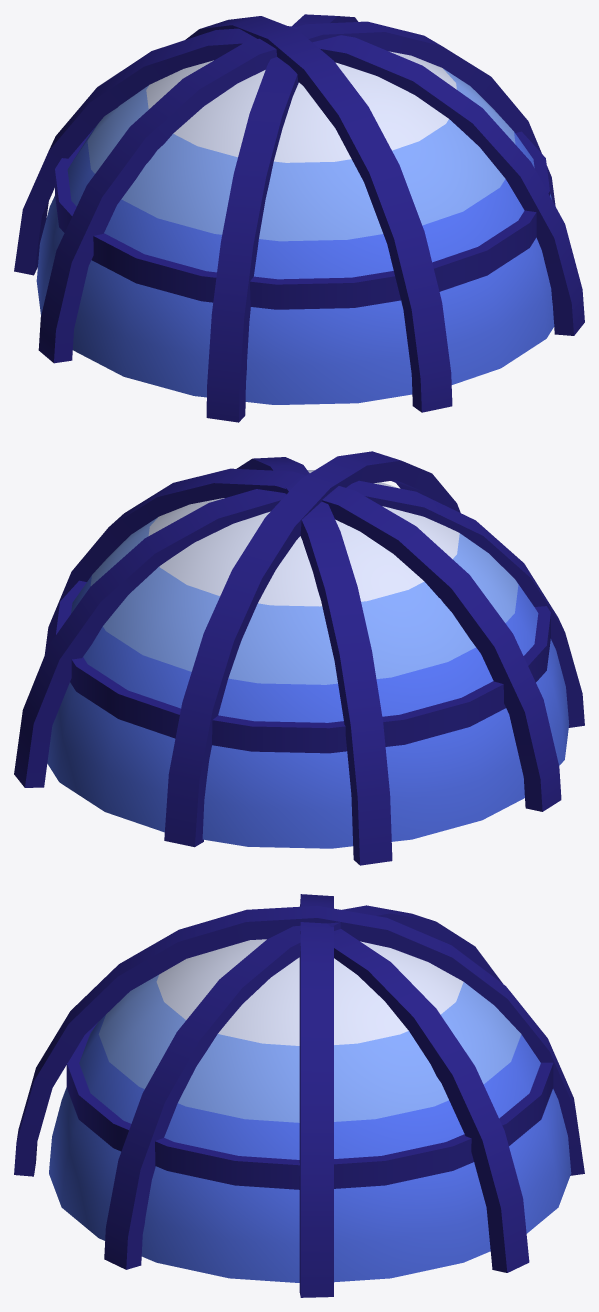
Rendered from Building_049_c.fbx.
3 views of the same model, one above another, from view 1: azimuth 30°, elevation 25°; view 2: azimuth 150°, elevation 25°; view 3: azimuth 270°, elevation 25° (orthographic). The views are drawn at different scales.
Parts seen in each view (by area): view 1: Building_049_c; view 2: Building_049_c; view 3: Building_049_c.
Boxes of the visible parts, x1,y1,x2,y2 form: Building_049_c: (14,14,584,422); Building_049_c: (14,451,584,865); Building_049_c: (14,894,584,1297).
Size of the model in its own units: 3.77 by 1.94 by 3.77.
